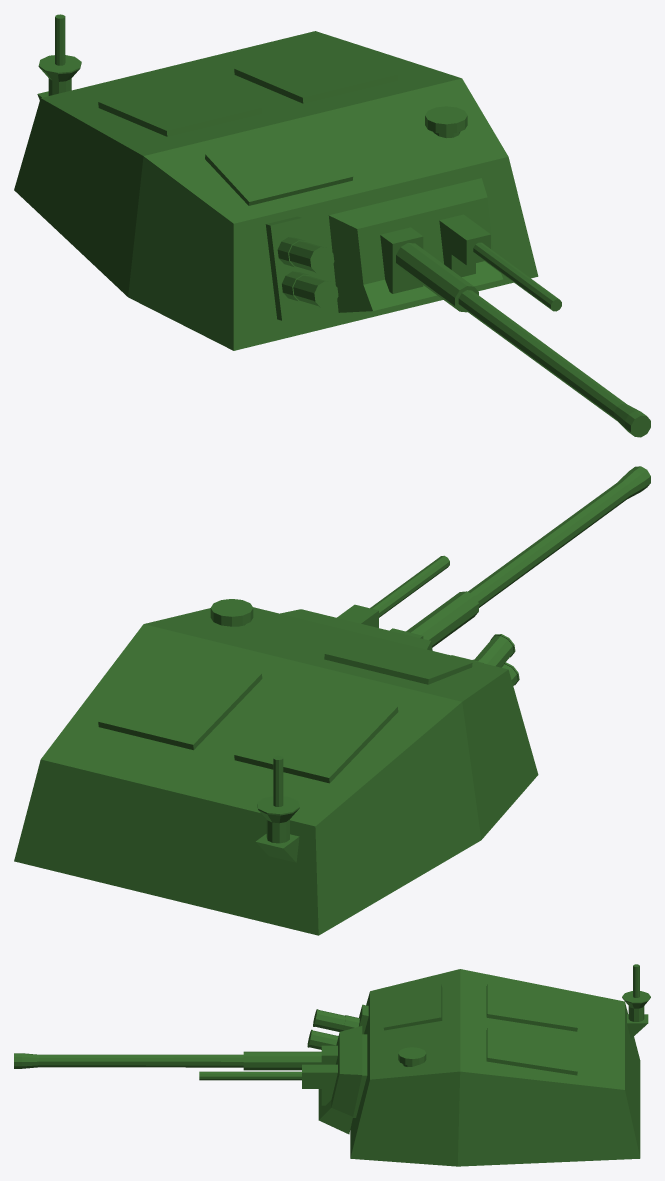
Rendered from Humber Armoured Car Finishing 3.fbx.
3 views of the same model, one above another, from view 1: azimuth 30°, elevation 25°; view 2: azimuth 150°, elevation 25°; view 3: azimuth 270°, elevation 25° (orthographic). The views are drawn at different scales.
Parts seen in each view (by area): view 1: turret; view 2: turret; view 3: turret.
Part boxes in pixels (box(x1,y1,x2,y2)): turret: box(14, 14, 650, 437); turret: box(14, 466, 650, 935); turret: box(14, 964, 650, 1166).
Size of the model in its own units: 150 by 78.67 by 356.
